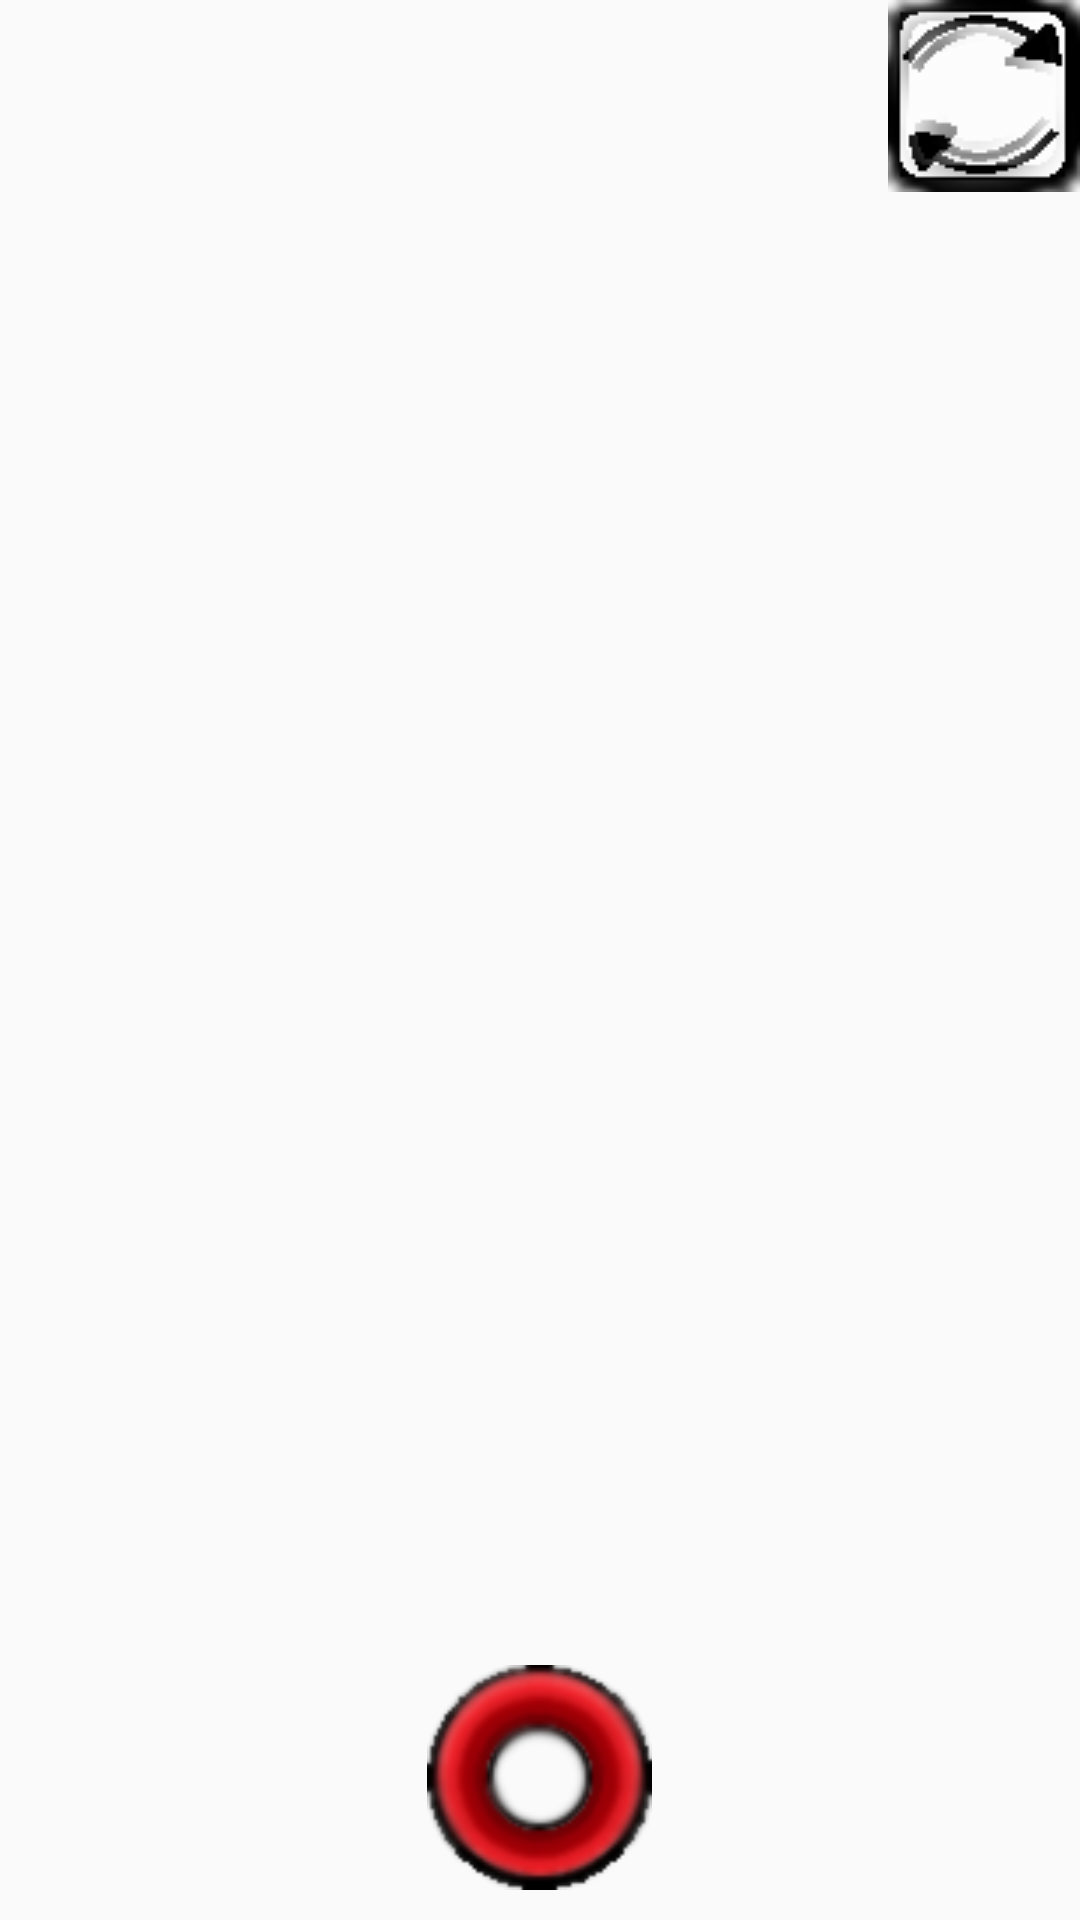

Where icons sit on this 1080px x 1920px app screen, as (x1, y1, x2, y2):
camera shot: (427, 1665, 652, 1890)
camera swap: (888, 0, 1080, 192)
